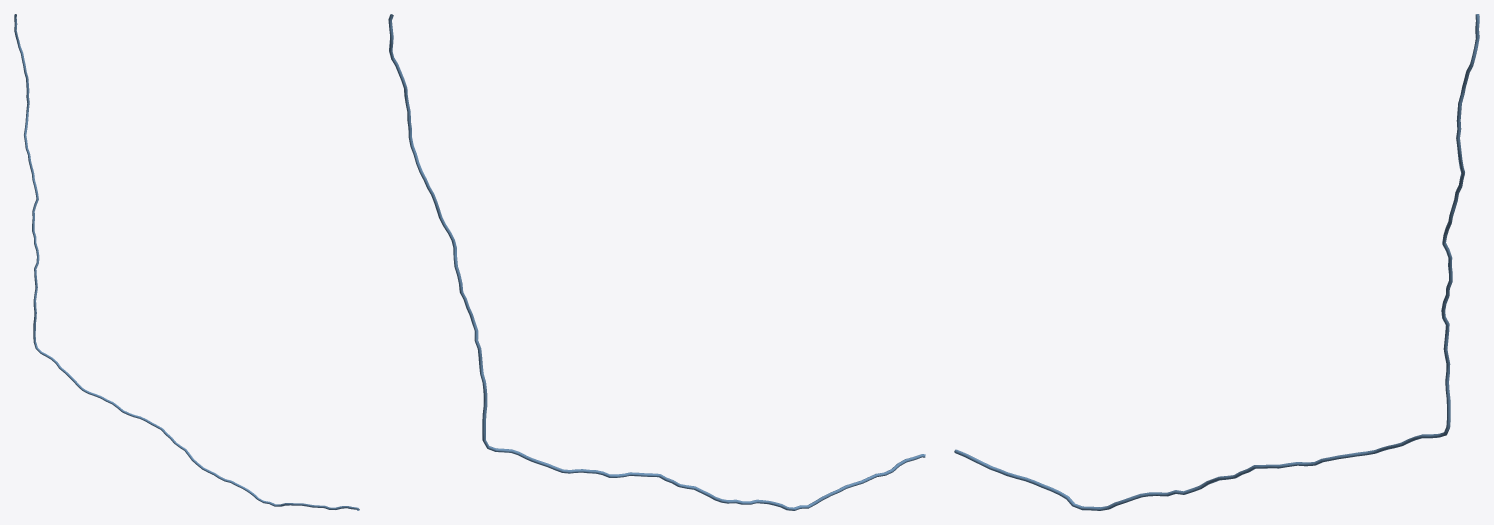
File: sweep176.fbx
3 views of the same model, side by side, from view 1: azimuth 90°, elevation 25°; view 2: azimuth 150°, elevation 25°; view 3: azimuth 270°, elevation 25° (orthographic). The views are drawn at different scales.
Visible parts, largest first — view 1: sweep176; view 2: sweep176; view 3: sweep176.
Boxes of the visible parts, left/top/right/bottom form: sweep176: left=14, top=14, right=359, bottom=510; sweep176: left=388, top=14, right=925, bottom=510; sweep176: left=954, top=14, right=1479, bottom=510.
Bounding box in the file's own units: 1.88 × 3.4 × 2.6.
